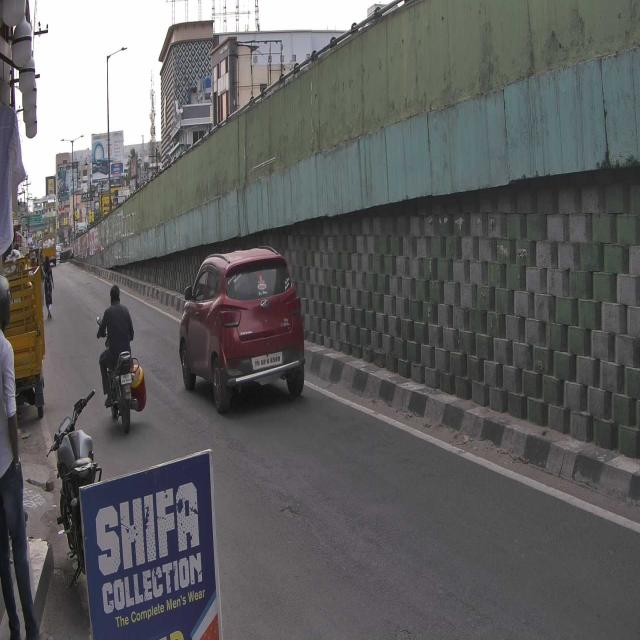single_rider: (94, 280, 142, 428)
